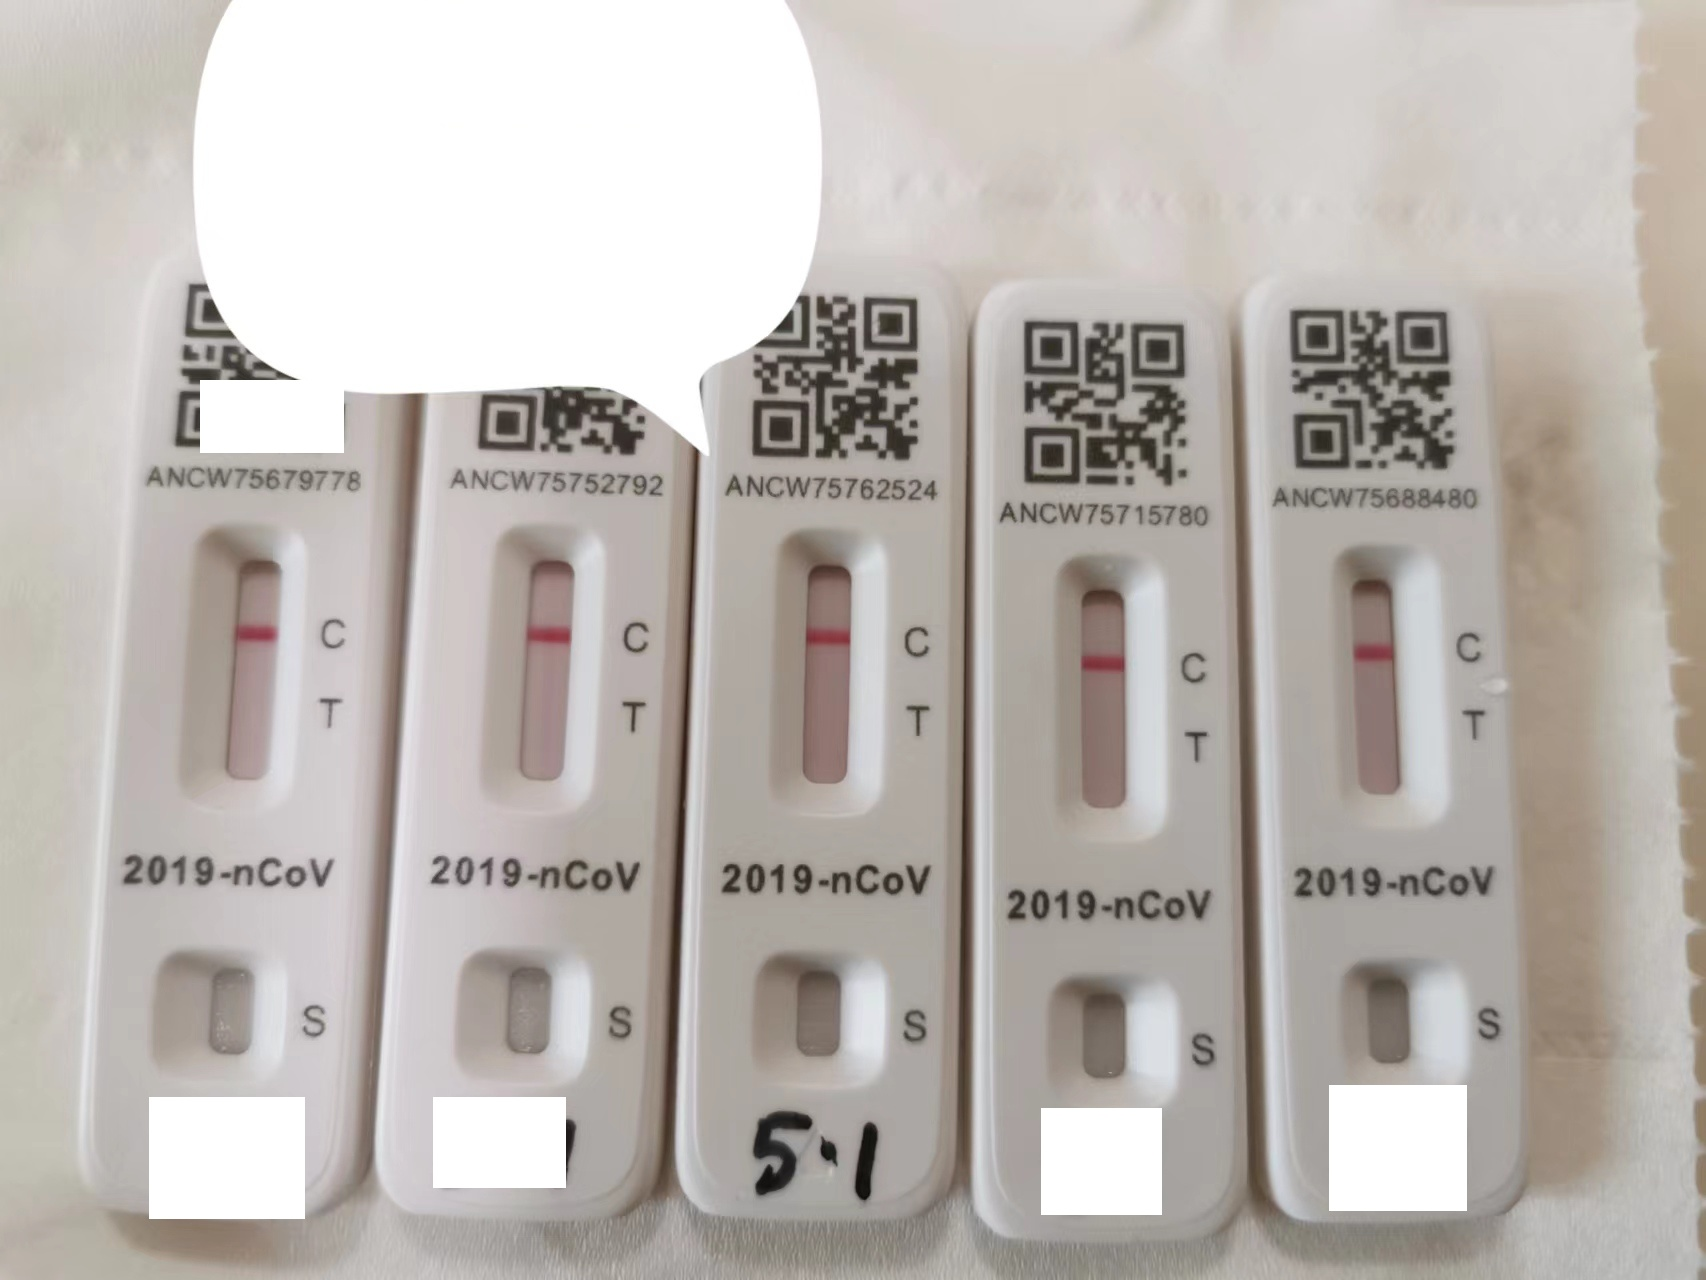negative: (1049, 551, 1167, 852), (483, 519, 602, 813), (186, 520, 302, 803), (1331, 541, 1443, 830), (773, 532, 881, 823)
